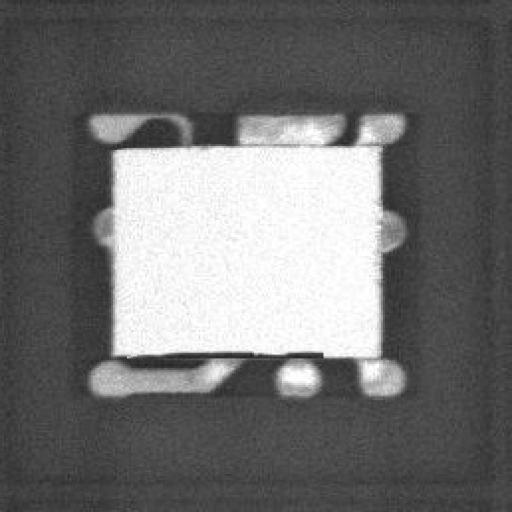DIE_BROKEN: (127, 342, 329, 360)
